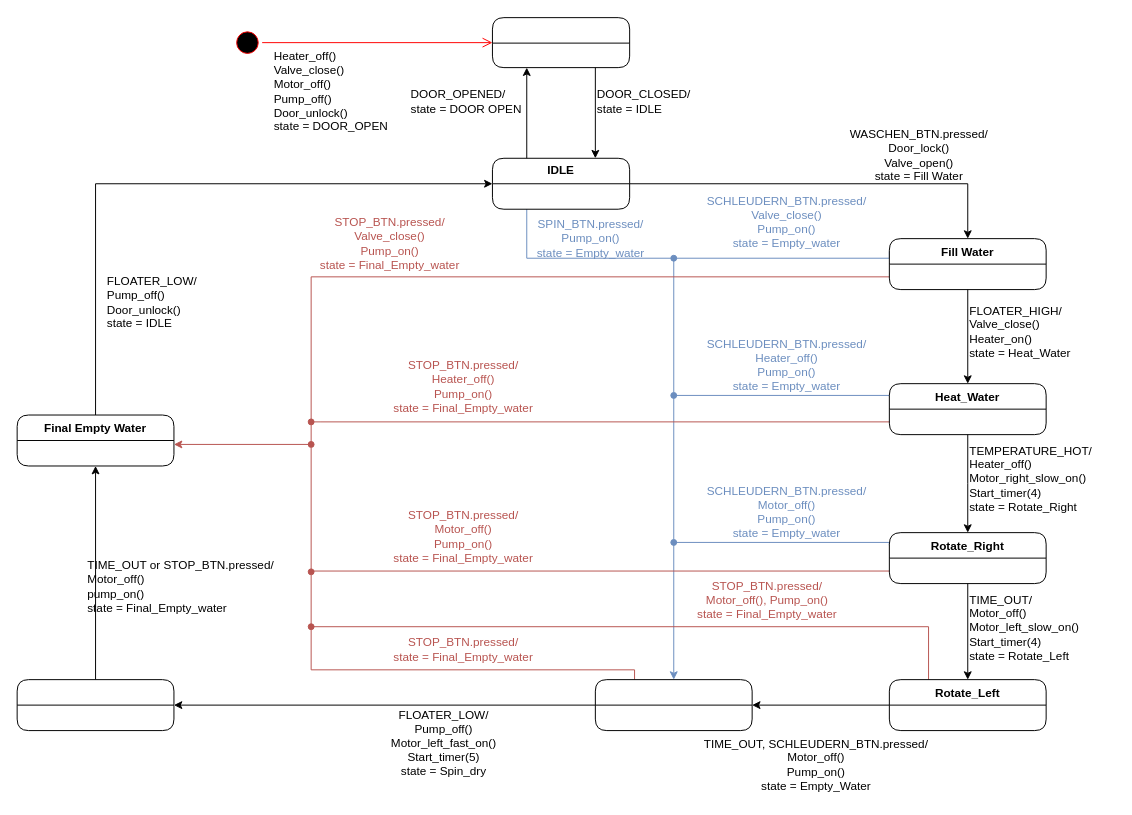
The diagram is 1132 pixels wide and 815 high, and some of its shapes have lost their labels. The shapes that lost their labels are listed below. From the top down, each one's box as (x1, y1, x2, y2) in pixels, then its label:
(491, 17, 630, 68): DOOR OPEN
(16, 679, 174, 731): Spin-dry
(594, 679, 752, 731): Empty_Water
